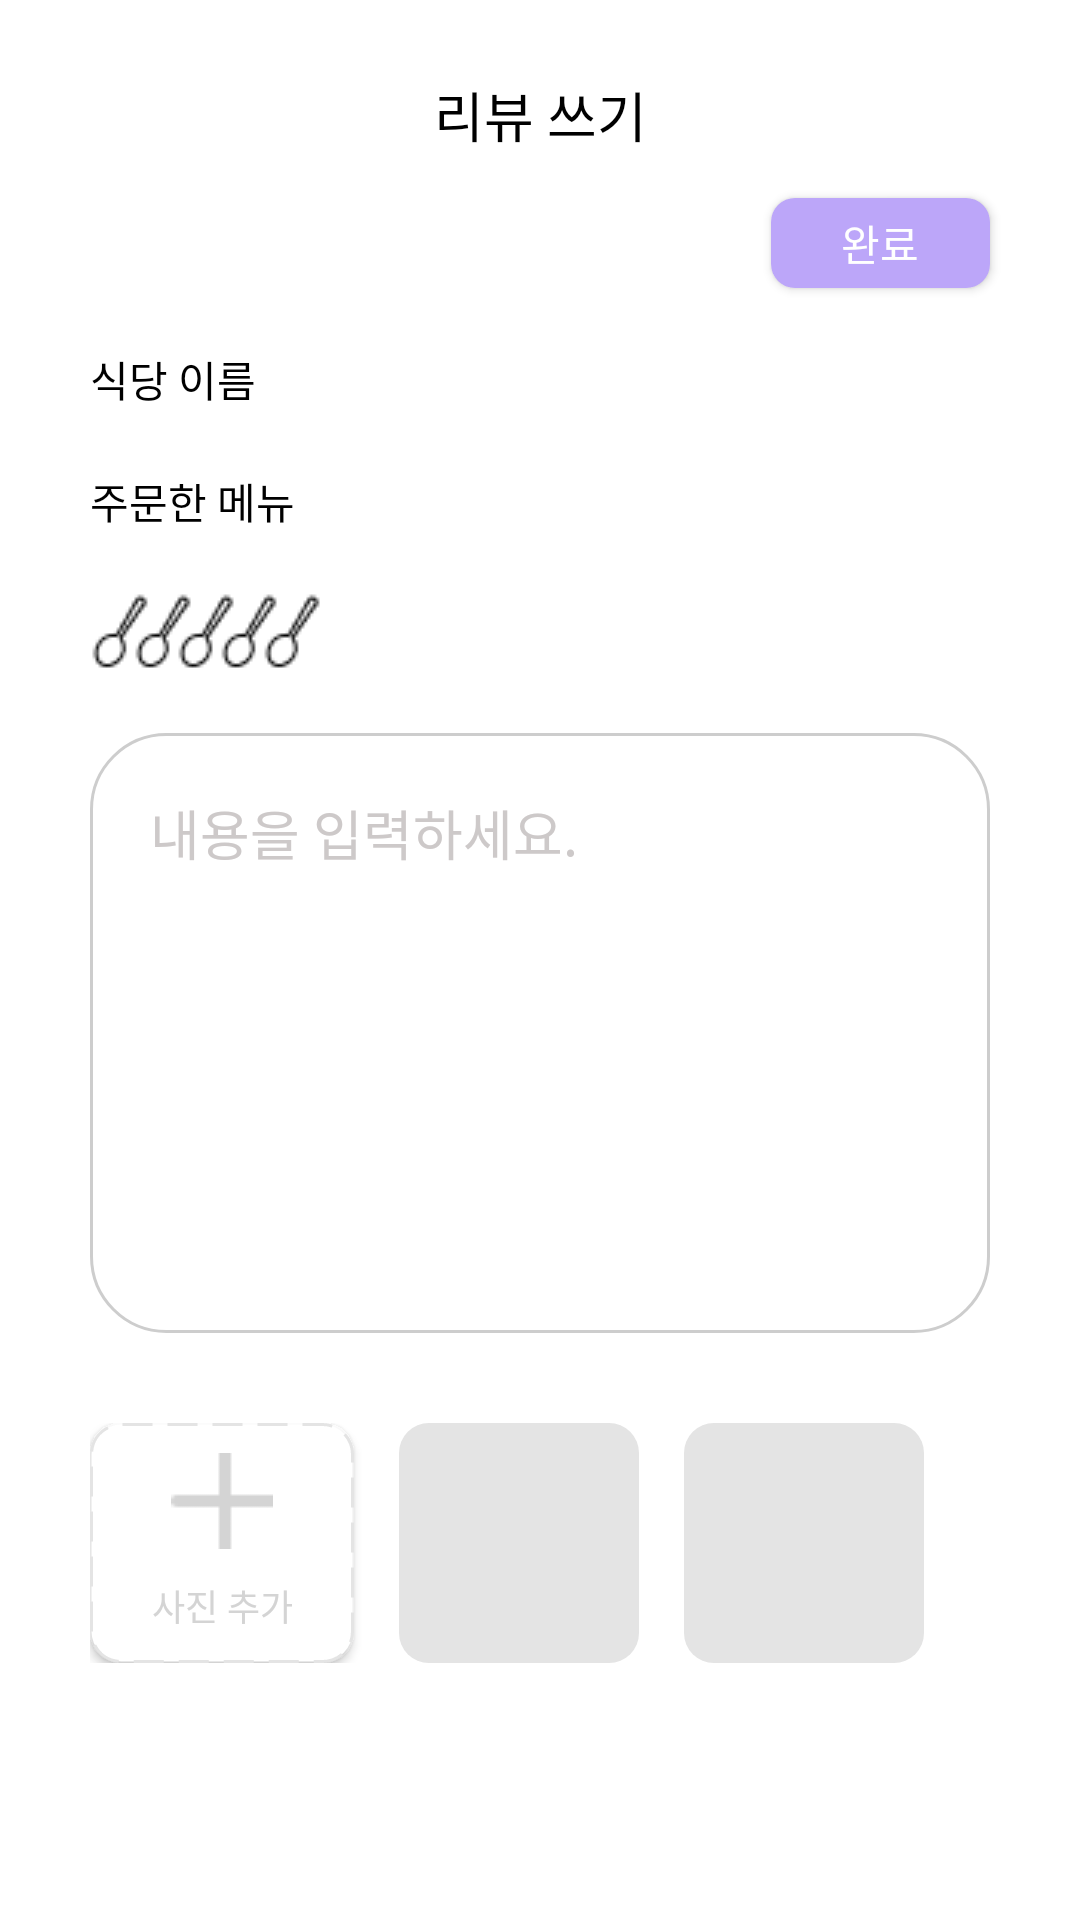

Icon bounding boxes for this 1080px x 1920px phone screenshot, format (x1, y1, x2, y2):
spoon empty: (92, 594, 148, 668), (135, 594, 191, 668), (178, 594, 234, 668), (221, 594, 277, 668), (264, 594, 320, 668)
